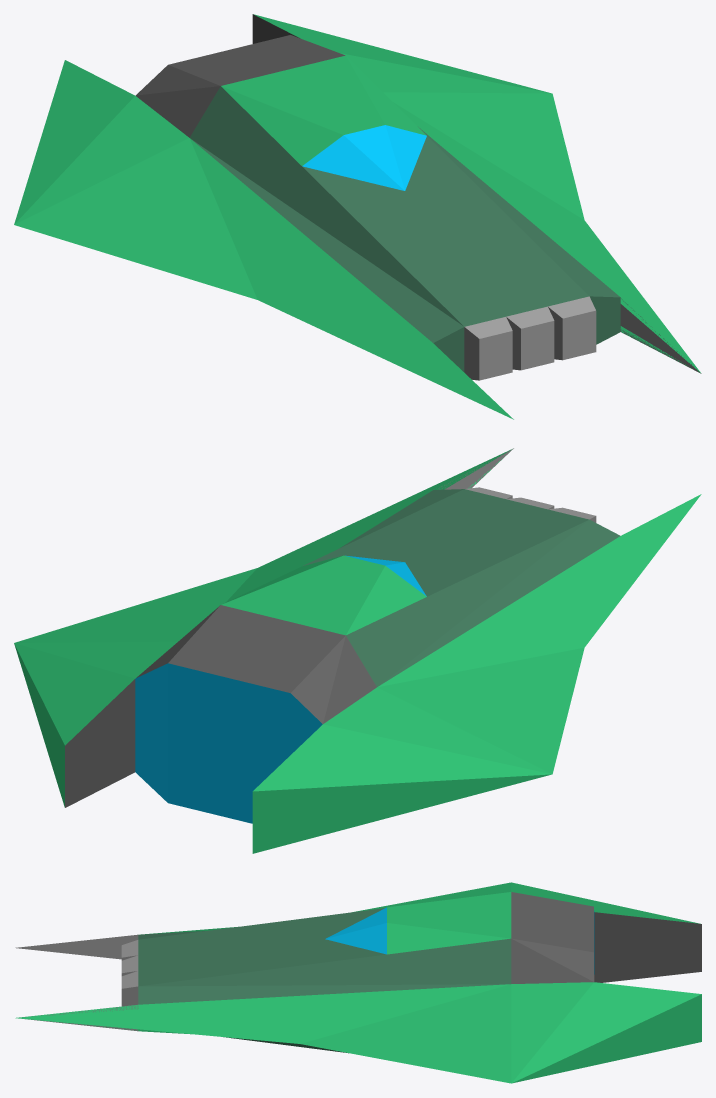
The model's file is tri_missile.fbx.
The picture shows the model from 3 angles, top to bottom: view 1: azimuth 30°, elevation 25°; view 2: azimuth 150°, elevation 25°; view 3: azimuth 270°, elevation 25°; orthographic projection. The views are drawn at different scales.
Parts seen in each view (by area): view 1: cube1; view 2: cube1; view 3: cube1.
Part boxes in pixels (bbox=[...]): cube1: bbox=[14, 14, 701, 419]; cube1: bbox=[14, 448, 701, 853]; cube1: bbox=[15, 882, 701, 1083].
Bounding box in the file's own units: 28.71 × 9.03 × 41.5.
1 material, 1 textured.
